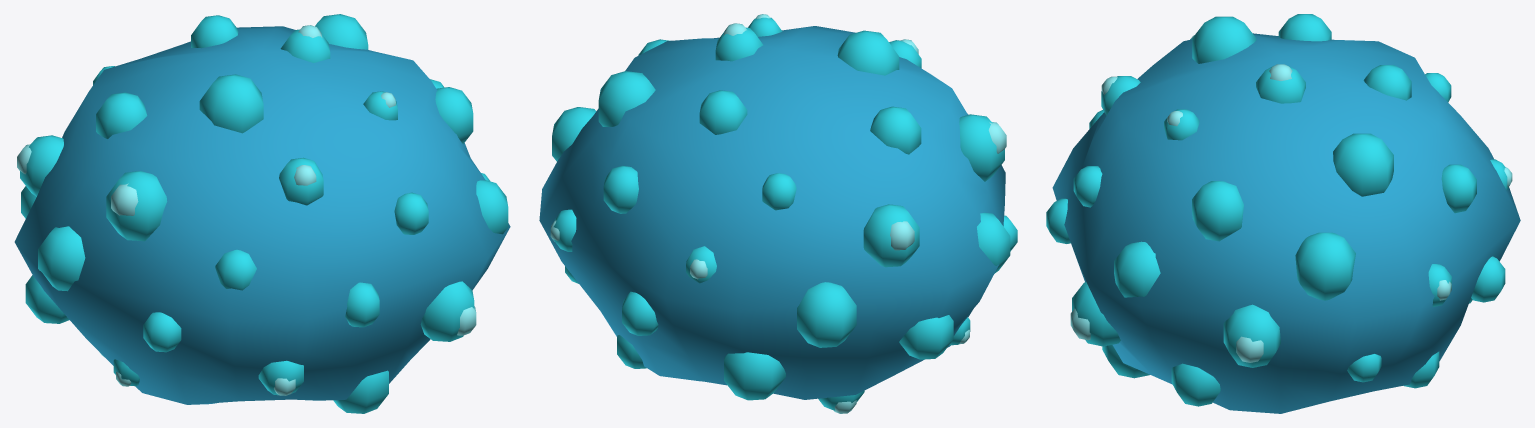
The model's file is t_cell.gltf.
3 views of the same model, side by side, from view 1: azimuth 30°, elevation 25°; view 2: azimuth 150°, elevation 25°; view 3: azimuth 270°, elevation 25° (orthographic). The views are drawn at different scales.
Parts seen in each view (by area): view 1: TCell; view 2: TCell; view 3: TCell.
Boxes of the visible parts, bbox=[...] form: TCell: bbox=[14, 14, 510, 413]; TCell: bbox=[539, 14, 1017, 413]; TCell: bbox=[1046, 14, 1520, 413].
Size of the model in its own units: 1.35 by 1.01 by 1.26.
